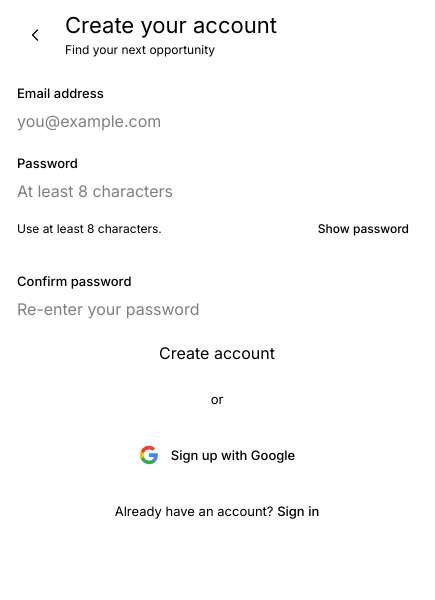
Scenario: employer account signup › keeps password confirmation for job seekers
Type "seeker@example.com" into the field labelled "Email address" at (134, 121), box [17,109,251,133]
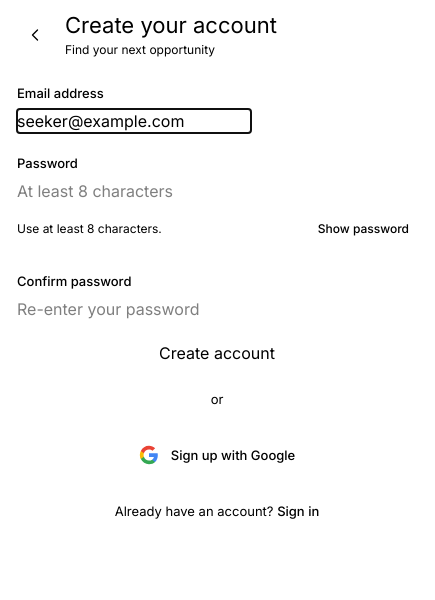
Type "secure-password" into the password field labelled "Password" at (134, 191), box [17,179,251,203]
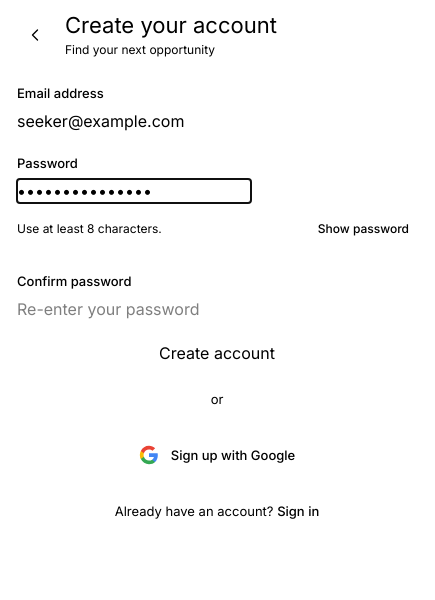
Type "different-password" into the password field labelled "Confirm password" at (134, 309), box [17,297,251,321]
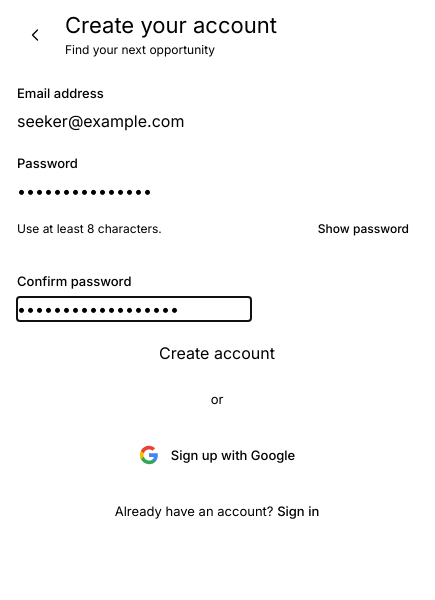
Click the button "Create account" at (217, 353), box [17,341,417,365]
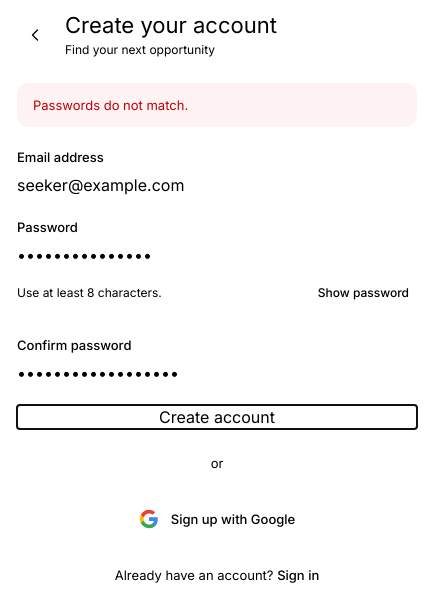
Expected: the message "Passwords do not match." is shown, [17,83,417,127]
